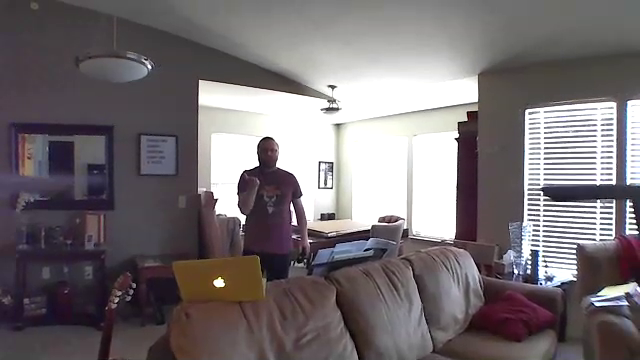land: (238, 171, 263, 188)
